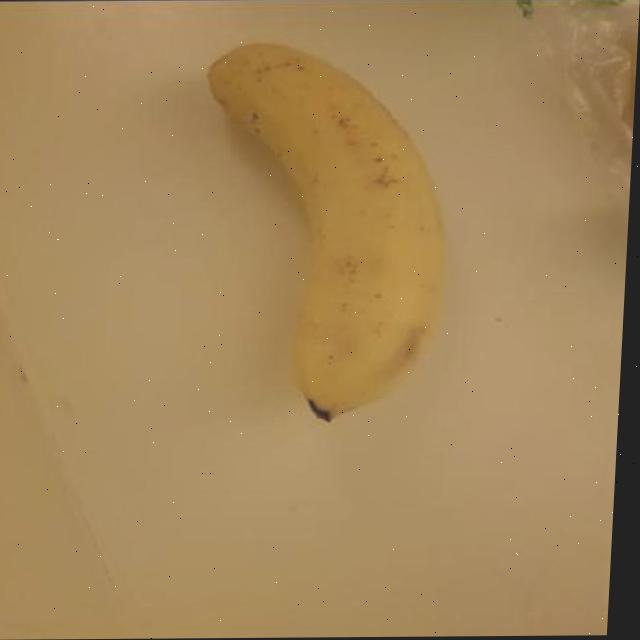banana: (183, 30, 462, 422)
